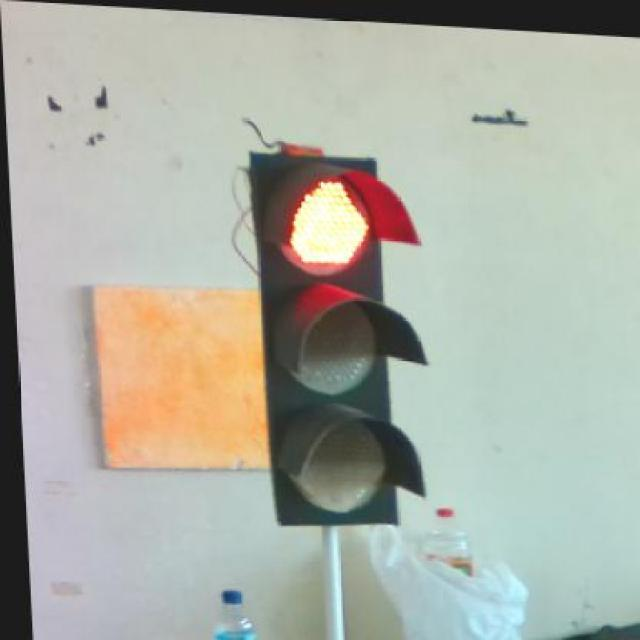traffic light: (250, 150, 429, 527)
